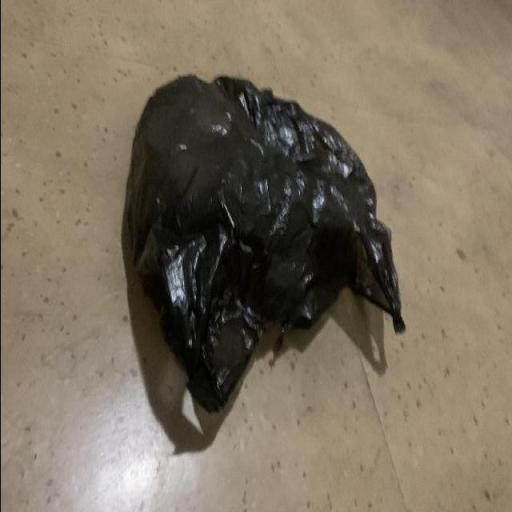plastic-bag: (120, 71, 406, 416)
